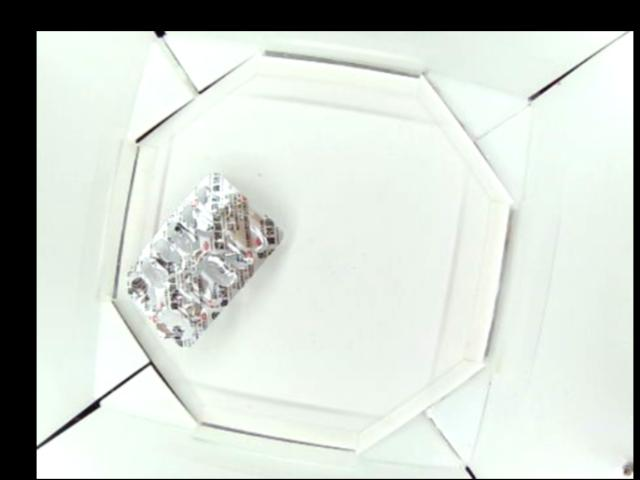Medicine: (124, 166, 286, 347)
